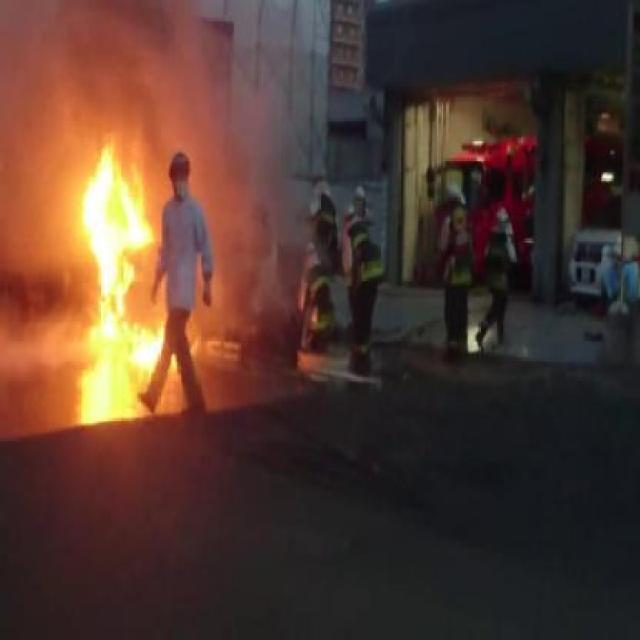Fire: (73, 134, 161, 370)
Smoke: (60, 2, 168, 126)
